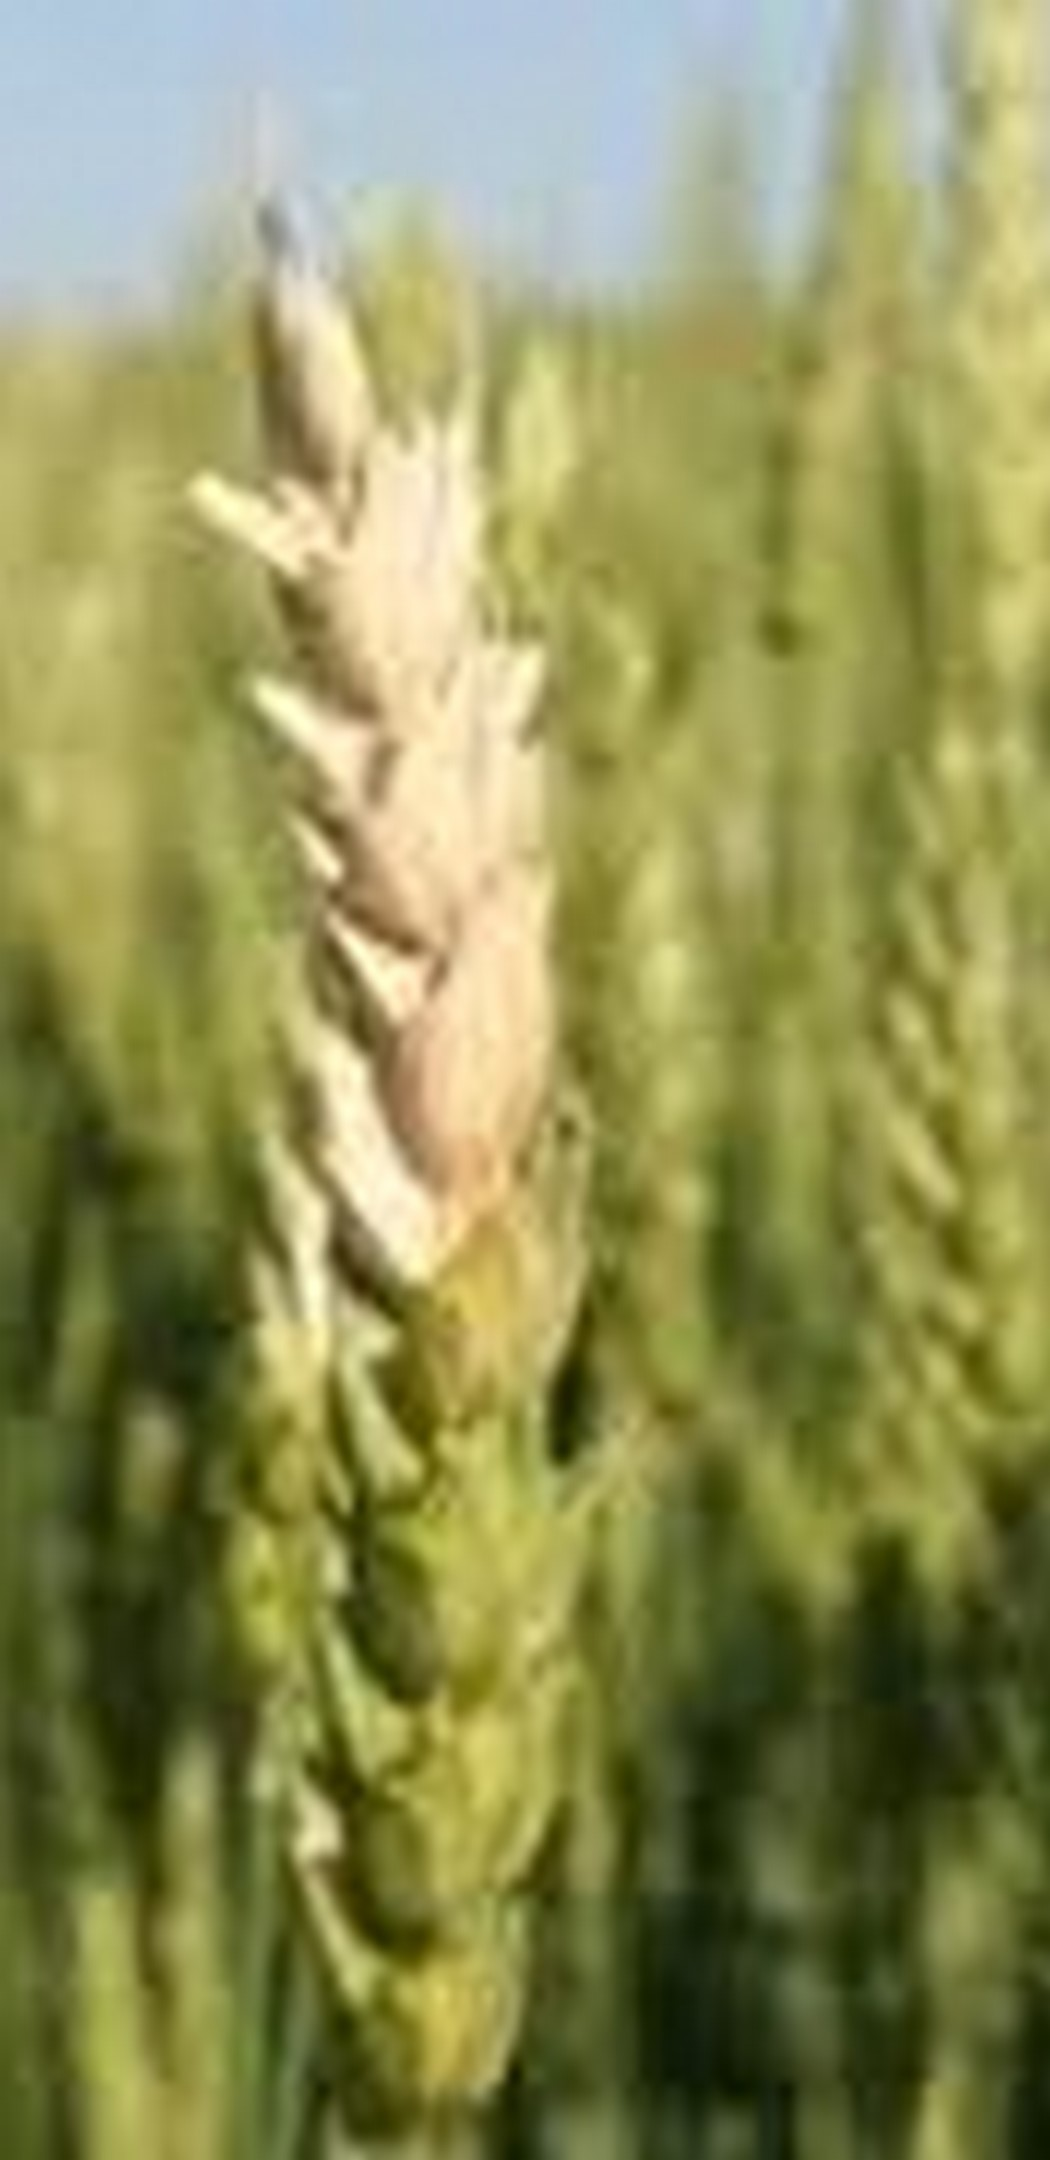Wheat scab: (192, 326, 632, 2081)
